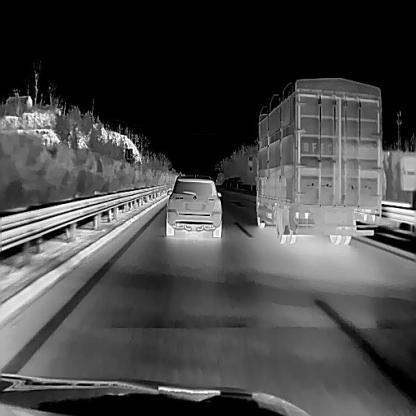car: (247, 77, 383, 245), (166, 173, 222, 237)
